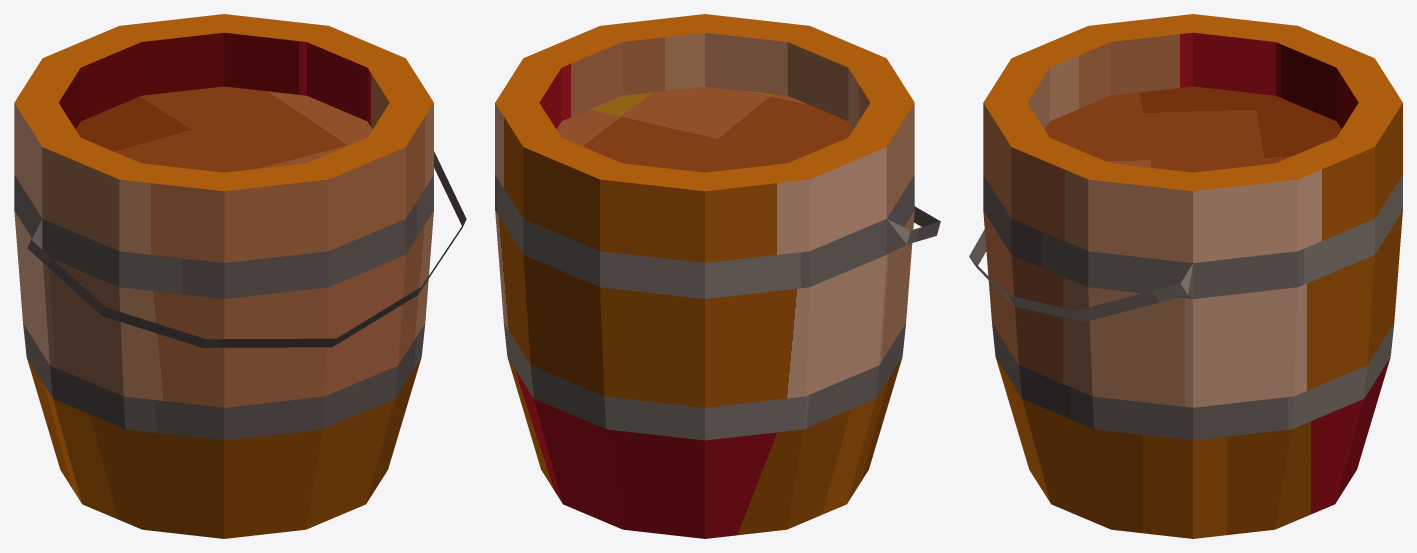
The model's file is bucket_810x05.gltf.
3 renders of one model, left to right at view 1: azimuth 30°, elevation 25°; view 2: azimuth 150°, elevation 25°; view 3: azimuth 270°, elevation 25°, orthographic.
Visible parts, largest first — view 1: bucket_810x05; view 2: bucket_810x05; view 3: bucket_810x05.
Part boxes in pixels (x1,y1,x2,y2): bucket_810x05: (14,14,466,538); bucket_810x05: (495,14,940,538); bucket_810x05: (969,14,1402,538).
Size of the model in its own units: 0.8779 by 0.772 by 0.8272.
Materials: 1 (1 with a texture image).
